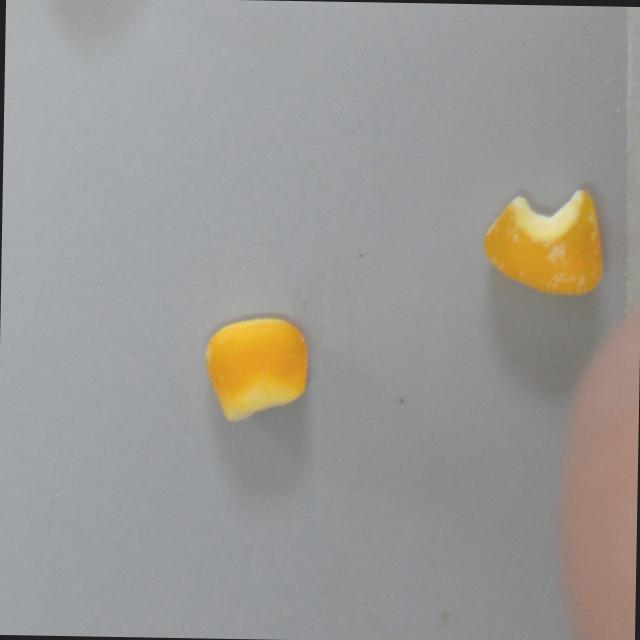no_canjicado: (202, 316, 308, 423)
pelicula: (479, 187, 604, 298)
